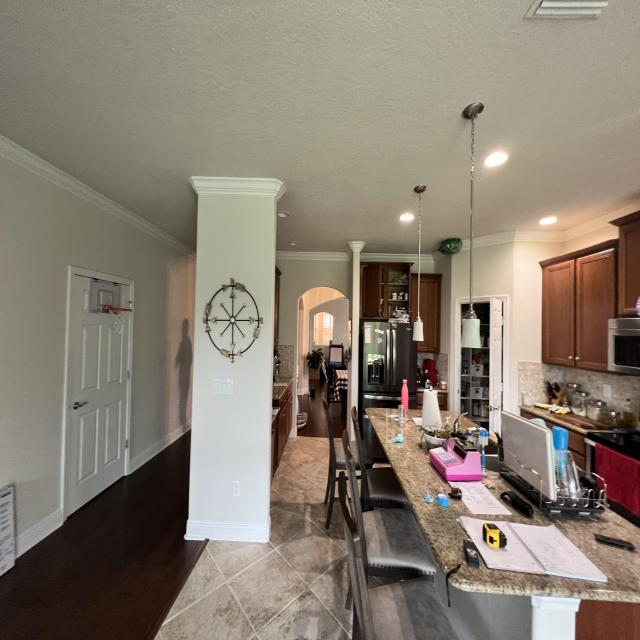Appliance_Fridge: (363, 320, 416, 407)
Appliance_Microwave: (607, 314, 640, 377)
Appliance_Oven: (584, 428, 640, 527)
Cabinet_Shaker: (539, 217, 640, 369), (361, 263, 410, 322), (417, 274, 442, 353)
Countertop_Granite: (366, 408, 640, 604)
